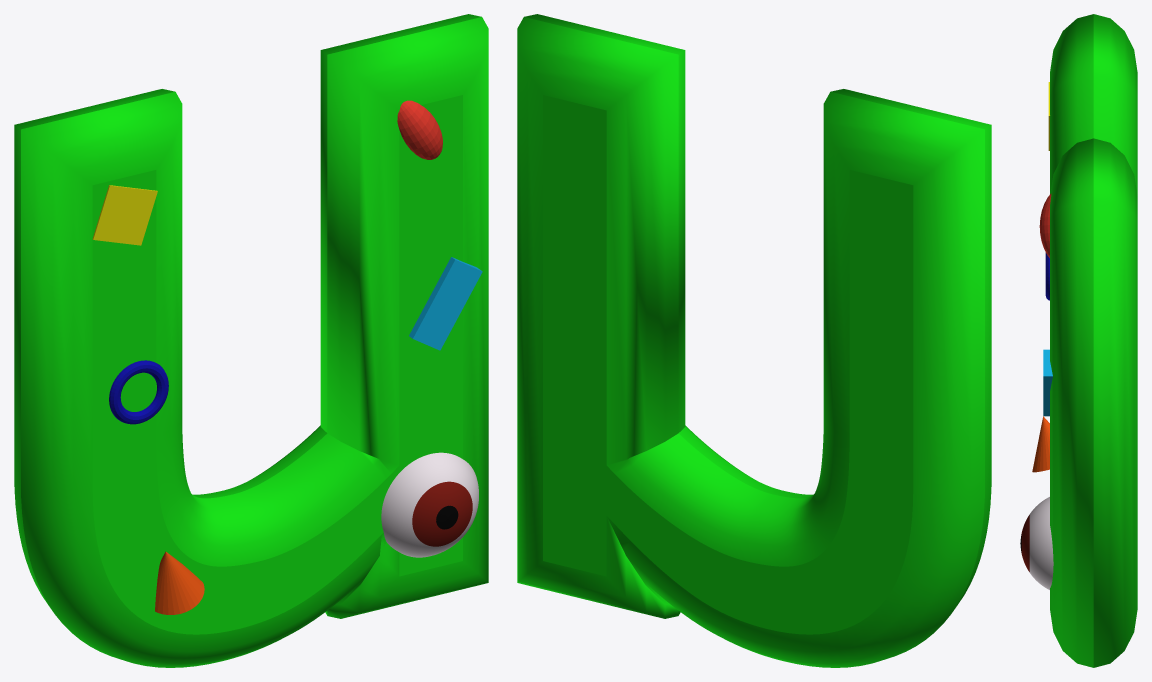
Rendered from u_green.fbx.
3 views of the same model, side by side, from view 1: azimuth 30°, elevation 25°; view 2: azimuth 150°, elevation 25°; view 3: azimuth 270°, elevation 25° (orthographic). The views are drawn at different scales.
Parts seen in each view (by area): view 1: Text, Sphere, Cube.001, Cube, Cone, Sphere.002, Torus; view 2: Text; view 3: Text, Sphere, Cone, Cube.001, Sphere.002, Torus.
Boxes of the visible parts, box(x1,y1,x2,y2) form: Text: box(14, 14, 488, 667); Sphere: box(381, 452, 478, 557); Cube.001: box(409, 257, 482, 350); Cube: box(92, 185, 157, 245); Cone: box(155, 551, 204, 614); Sphere.002: box(397, 100, 442, 159); Torus: box(109, 360, 168, 424); Text: box(517, 14, 991, 667); Text: box(1050, 14, 1137, 667); Sphere: box(1020, 497, 1053, 589); Cone: box(1032, 416, 1049, 472); Cube.001: box(1043, 349, 1052, 416); Sphere.002: box(1039, 193, 1051, 257); Torus: box(1045, 252, 1049, 300).
Bounding box in the file's own units: 99.91 × 119 × 26.42.
